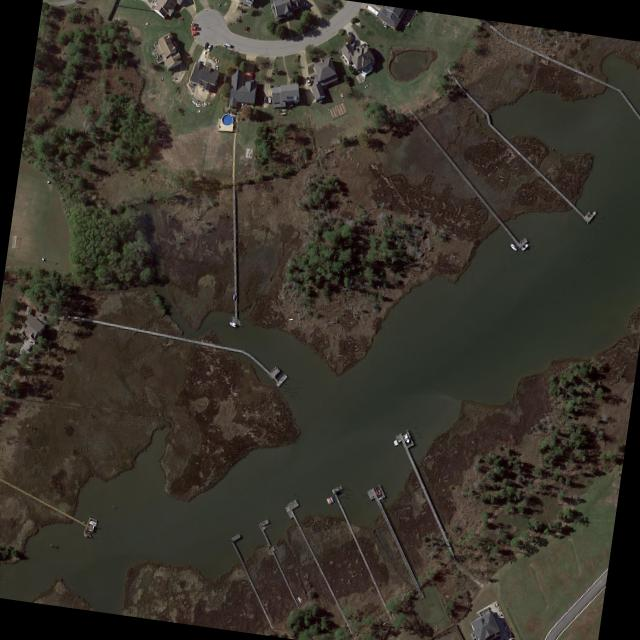ship: (519, 242, 529, 252), (401, 433, 410, 444), (493, 601, 501, 613), (508, 242, 517, 252), (227, 321, 236, 329), (374, 487, 381, 497), (324, 497, 330, 506), (88, 520, 96, 526), (296, 596, 302, 604), (246, 149, 251, 157), (327, 497, 331, 503), (329, 497, 333, 502), (287, 319, 293, 320)
small-vehicle: (205, 43, 212, 52), (347, 32, 354, 40), (305, 77, 311, 86), (222, 42, 230, 48), (248, 71, 253, 80), (203, 42, 208, 50), (190, 31, 197, 36), (302, 2, 309, 7), (190, 27, 198, 31), (267, 96, 271, 104), (263, 96, 266, 103), (189, 24, 196, 26)
